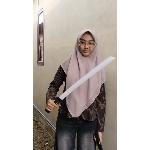Pedang: (46, 53, 117, 113)
